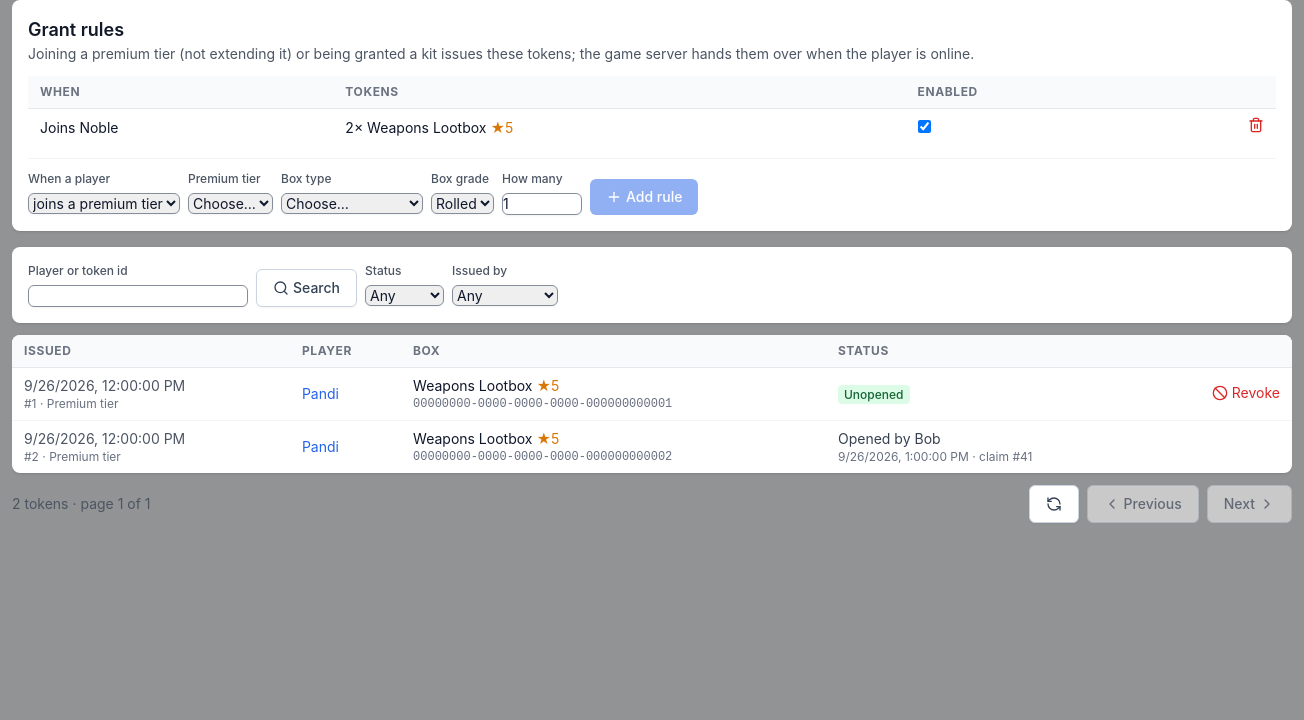
Lootbox token items tab (Phase 5) › lists issued tokens, filters them, and revokes an unopened one after a confirm
Expected: the number of rows with test id "token-row" is 2, top-left (12, 368), bottom-right (1292, 420); top-left (12, 420), bottom-right (1292, 473)
Expected: the row with test id "token-row" shows "Unopened", top-left (844, 387), bottom-right (904, 402)
Step 1. Select "Issued" in the dropdown named "Token status filter" → (404,296), box top-left (365, 285), bottom-right (444, 306)
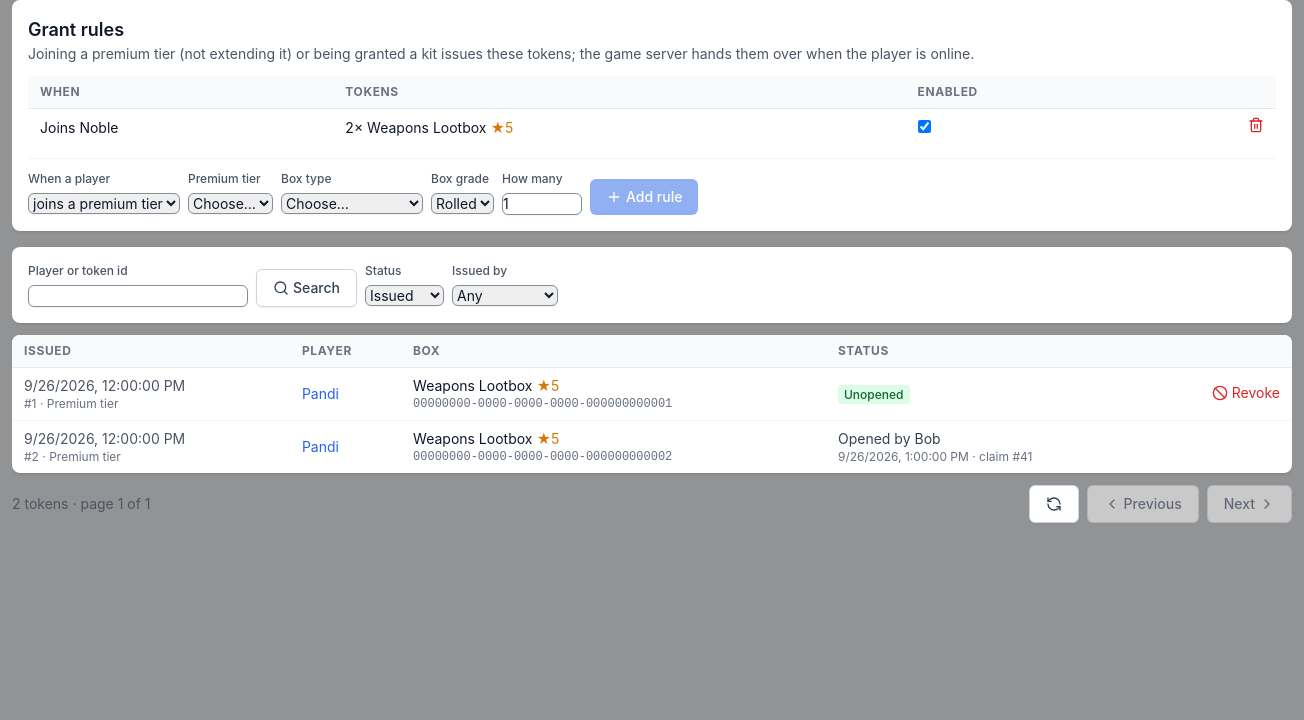
Step 2. Click the button with aria-label "Revoke token 1" → (1246,392), box top-left (1212, 382), bottom-right (1280, 402)
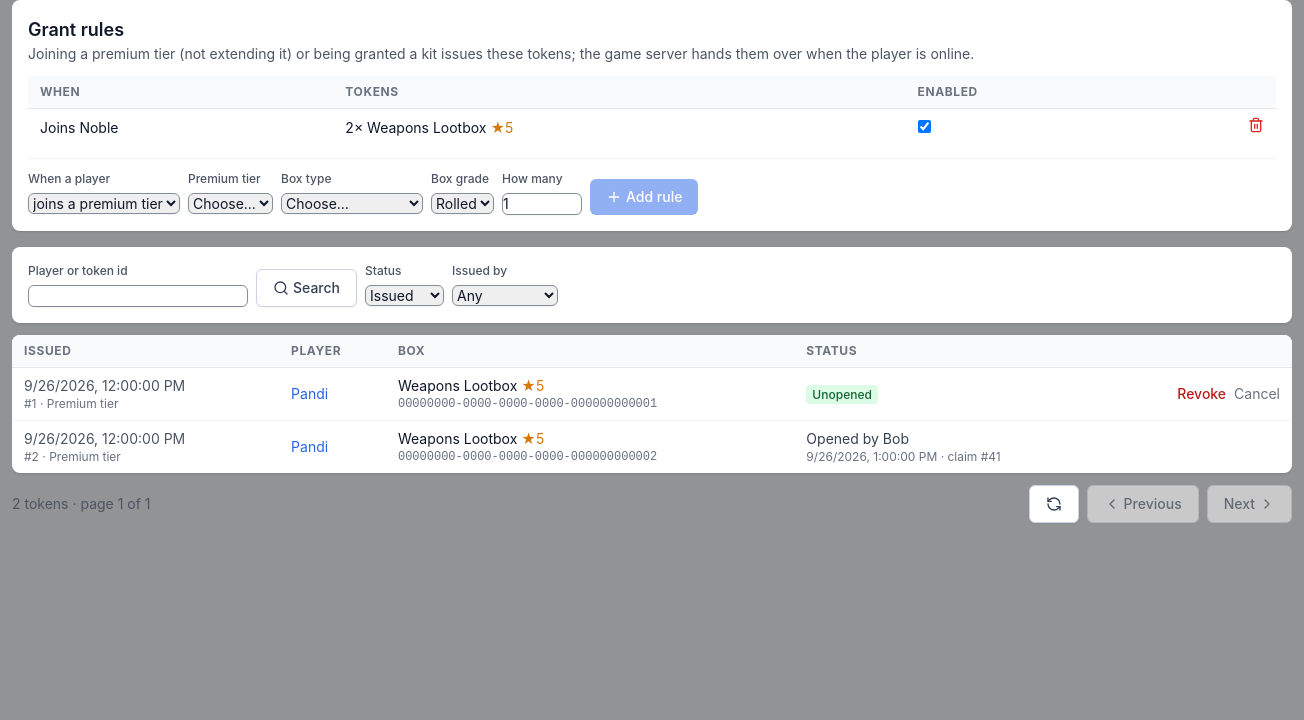
Step 3. Click the button "Revoke" → (1202,394), box top-left (1177, 384), bottom-right (1226, 404)
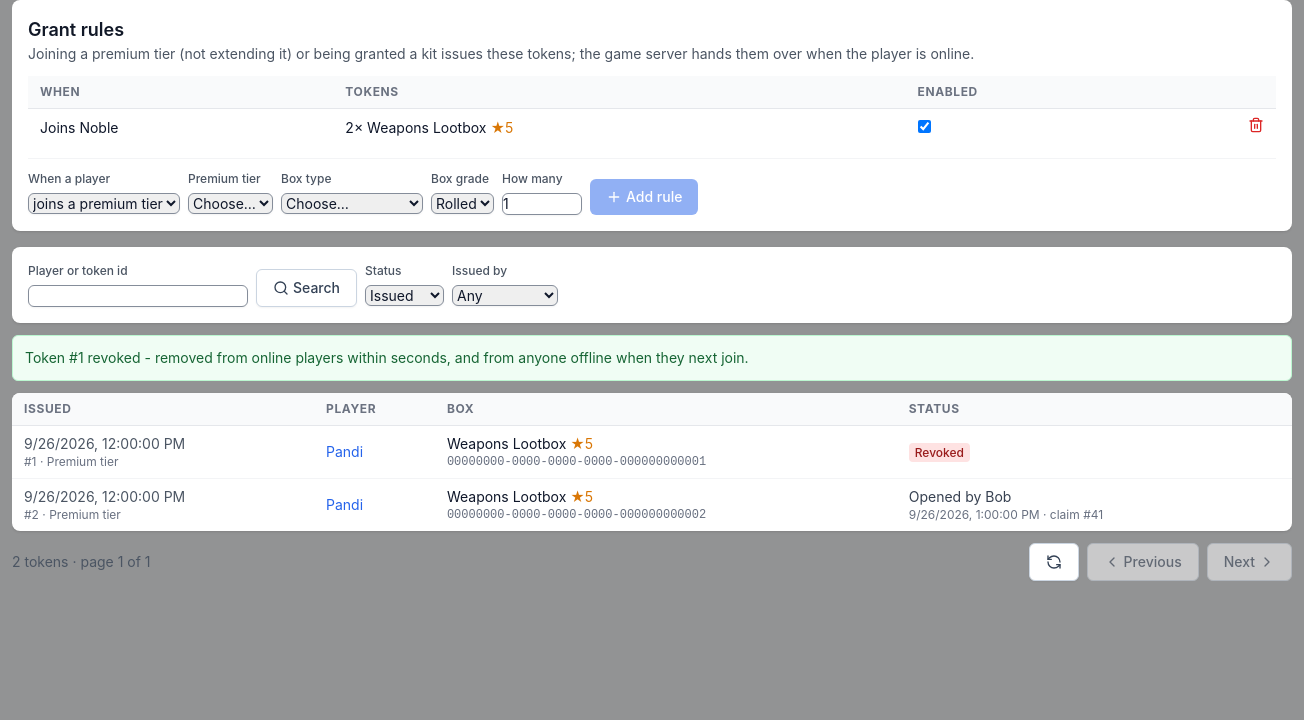
Now the text "Token #1 revoked" is shown, box top-left (25, 349), bottom-right (749, 366)
